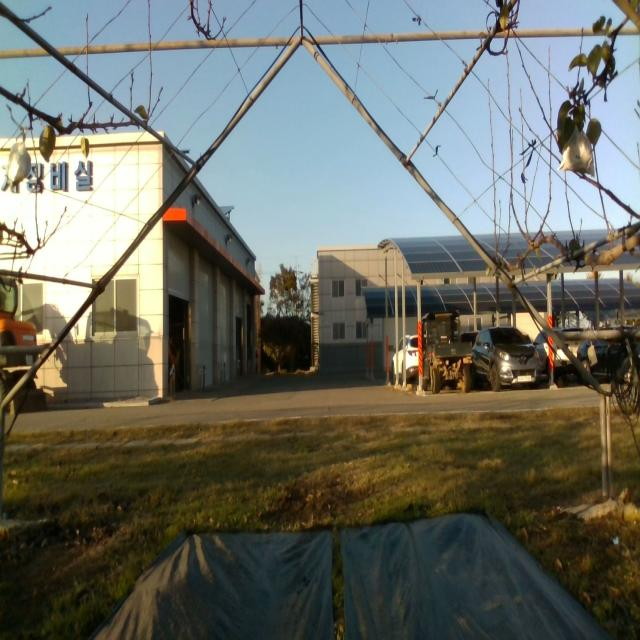pearbags: (557, 122, 595, 180), (8, 132, 32, 189)
